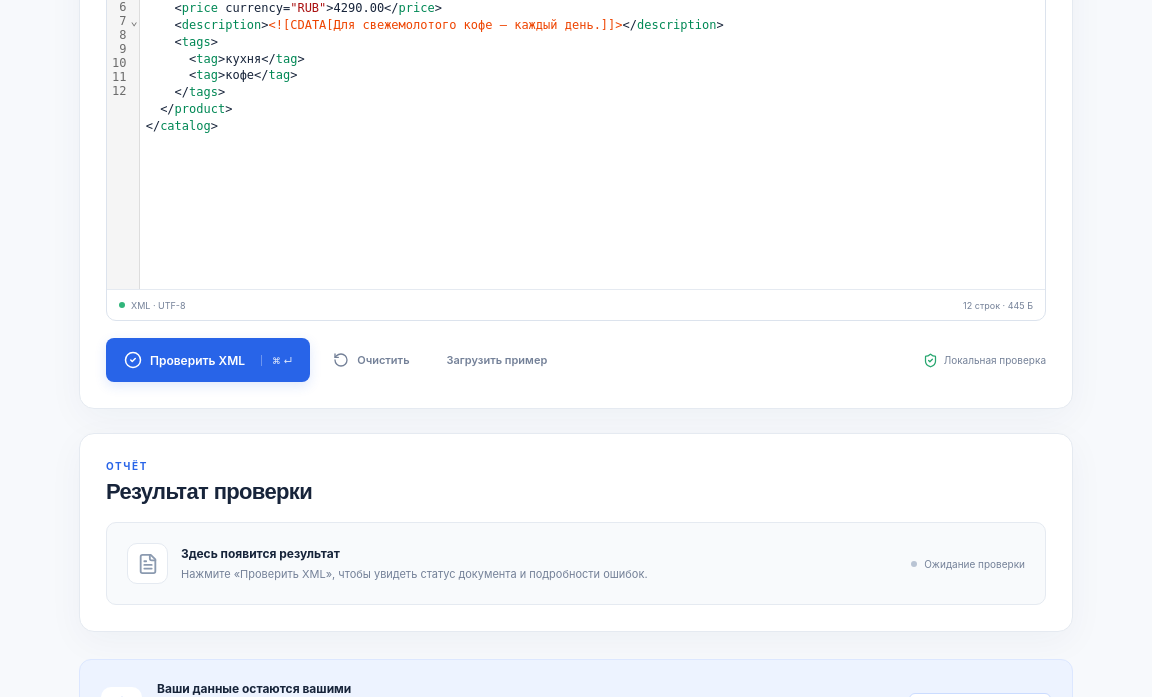
Test: XML Validator interface › checks the sample document and displays a real result
(page scrolled)
What coordinates should you click on to do the following:
click the button "Проверить XML ⌘ ↵"
I would click on:
 (208, 360)
Its box is [106,338,310,382].
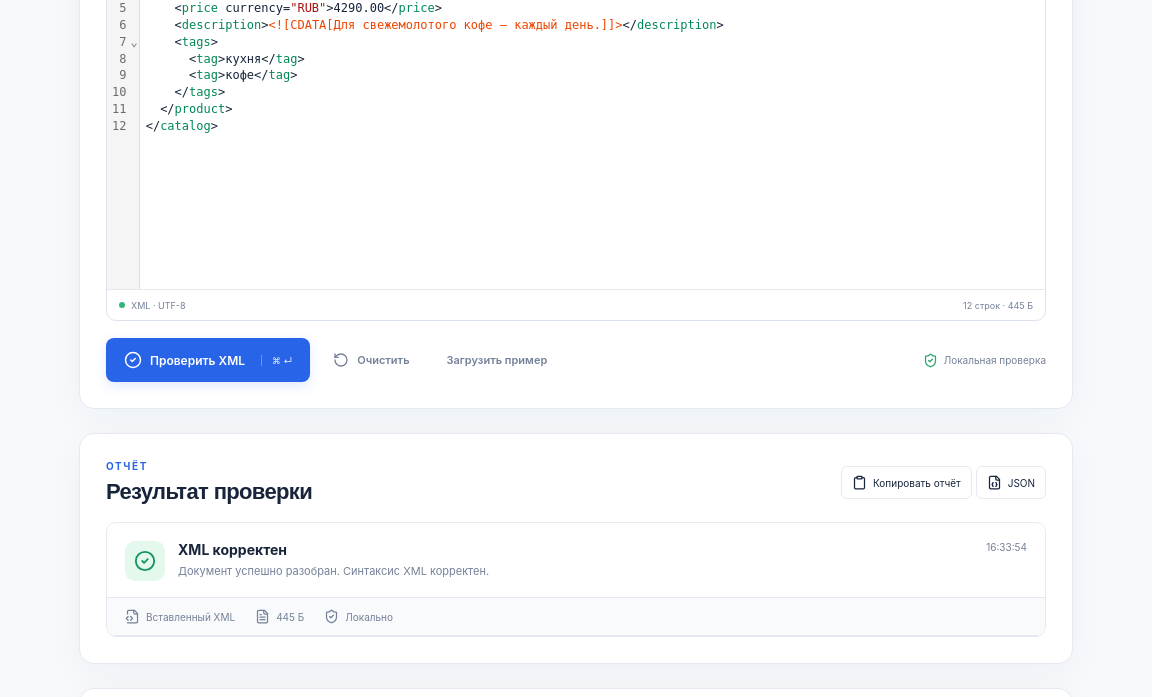
Check: the heading "XML корректен" is shown, box [178,542,287,558]
Check: the text "Документ успешно разобран. Синтаксис XML корректен." is shown, box [178,564,489,578]
